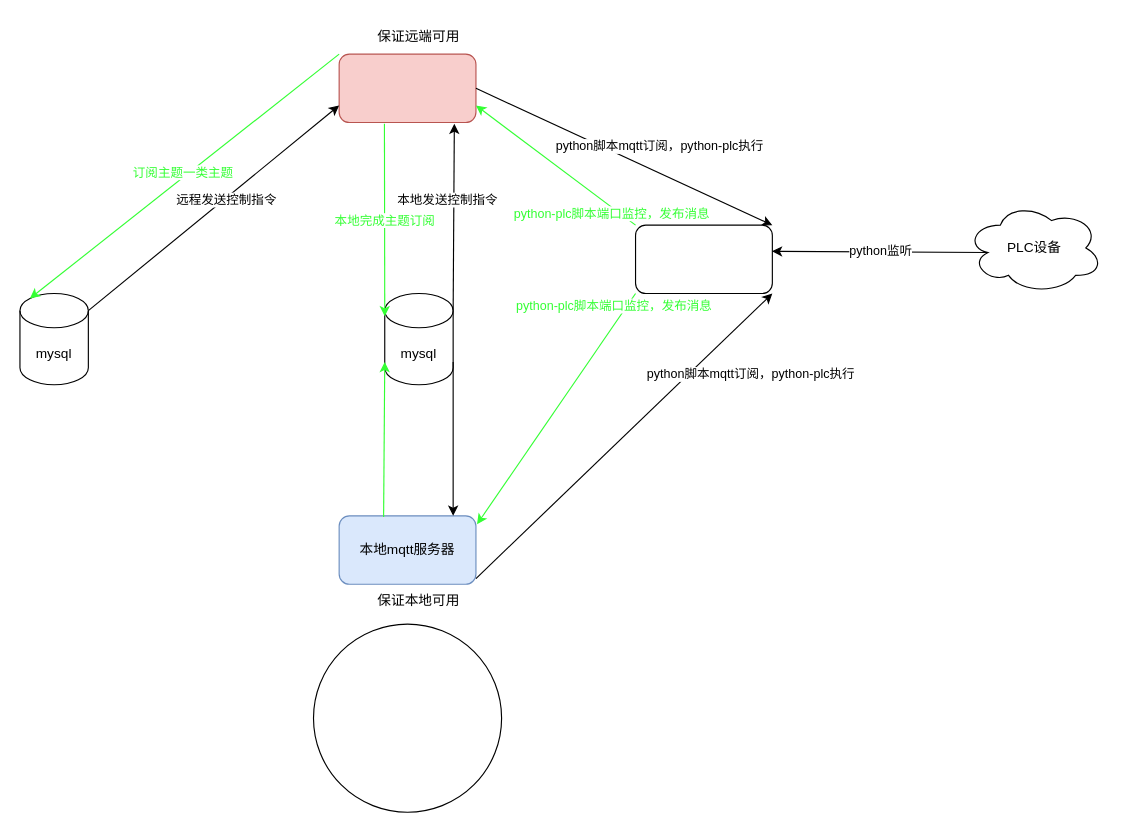
The diagram is 1123 pixels wide and 832 high, and some of its shapes have lost their labels. Each missing label, with the centre of its shape:
docker部署python docker部署mqtt-broker: [407,717]
阿里云mqtt服务器: [407,88]
